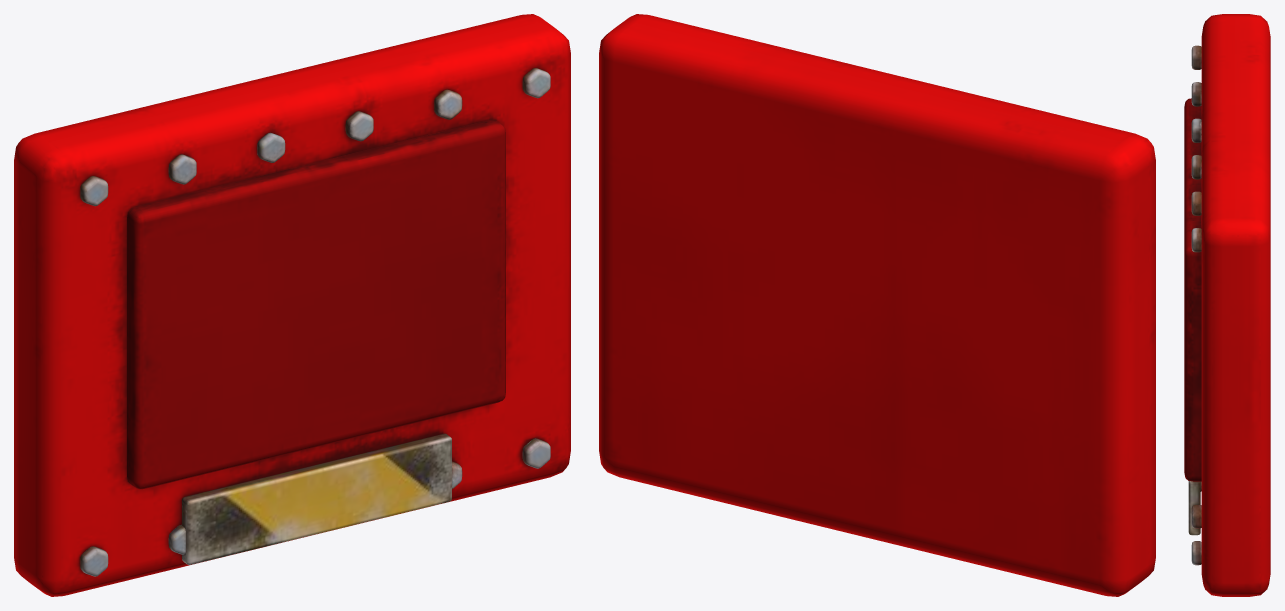
The model's file is armour.glb.
3 renders of one model, left to right at view 1: azimuth 30°, elevation 25°; view 2: azimuth 150°, elevation 25°; view 3: azimuth 270°, elevation 25°, orthographic. The views are drawn at different scales.
Parts seen in each view (by area): view 1: body; view 2: body; view 3: body.
Boxes of the visible parts, bbox=[...] form: body: bbox=[14, 14, 570, 596]; body: bbox=[599, 14, 1155, 596]; body: bbox=[1184, 14, 1270, 596].
Bounding box in the file's own units: 0.6 × 0.48 × 0.1.
1 material, 1 textured.
